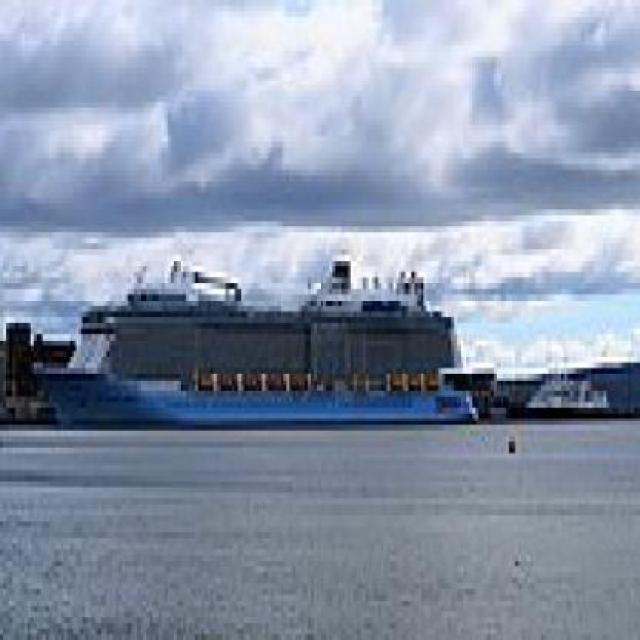cruise: (19, 251, 501, 460)
